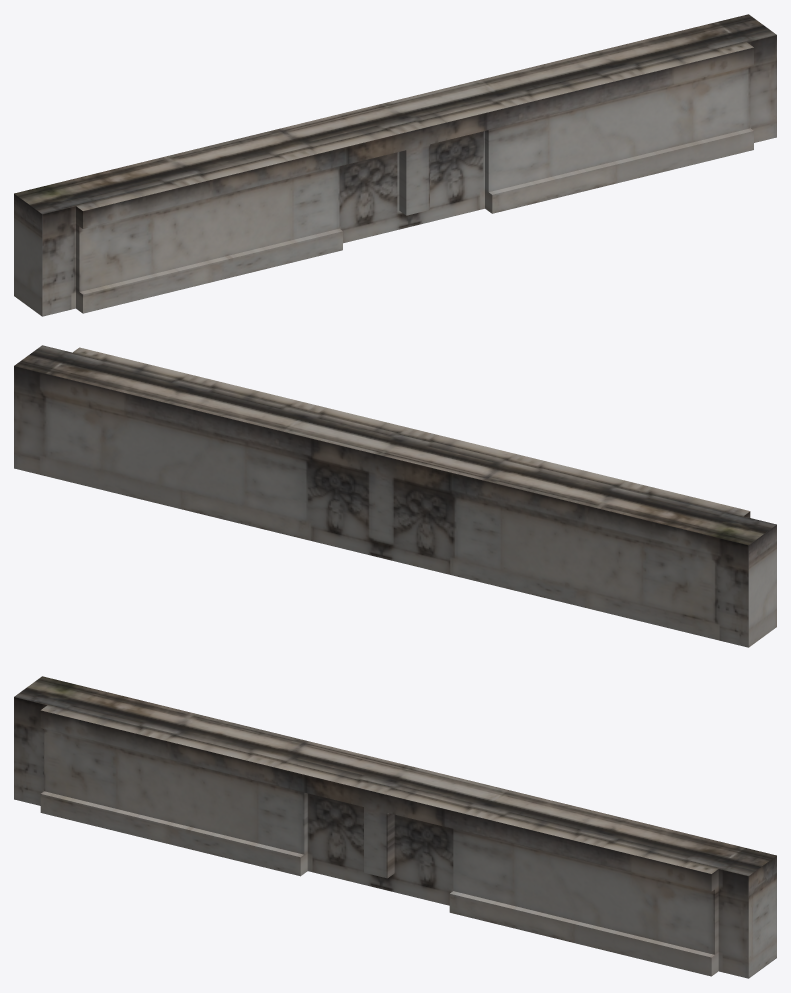
The model's file is Cornice.FBX.
3 views of the same model, one above another, from view 1: azimuth 30°, elevation 25°; view 2: azimuth 150°, elevation 25°; view 3: azimuth 330°, elevation 25° (orthographic).
Visible parts, largest first — view 1: Cornice; view 2: Cornice; view 3: Cornice.
Boxes of the visible parts, x1,y1,x2,y2 form: Cornice: (14,14,776,316); Cornice: (14,345,776,647); Cornice: (14,676,776,978).
Bounding box in the file's own units: 960 × 128 × 80.
